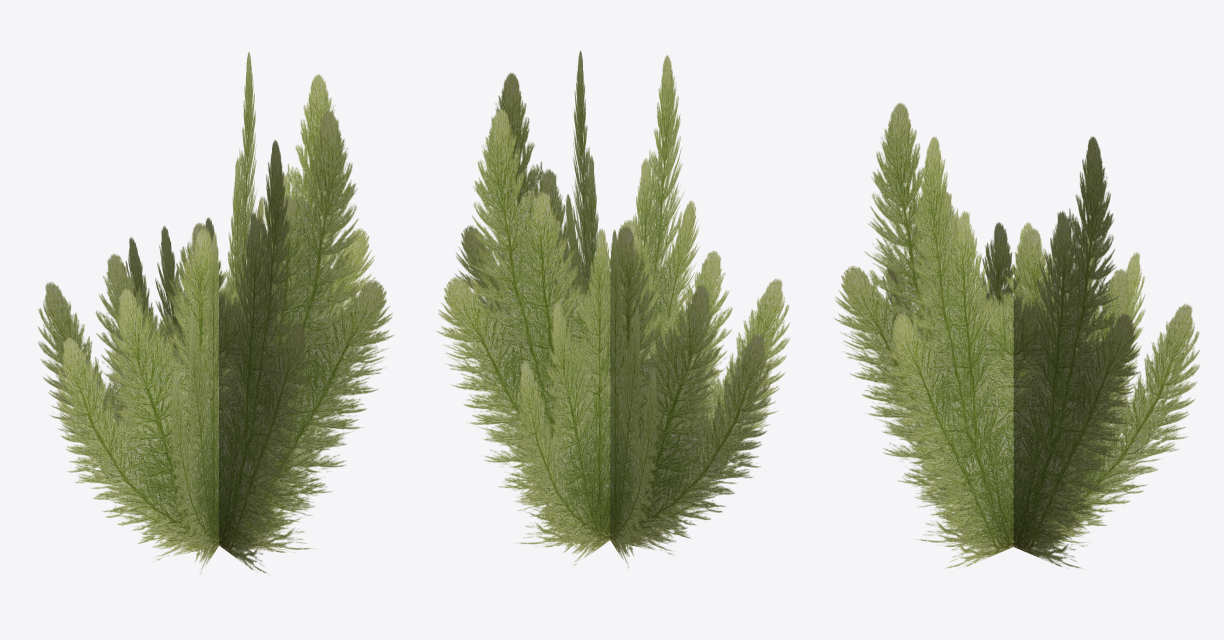
Rendered from Ceratophyllum.glb.
The picture shows the model from 3 angles, left to right: view 1: azimuth 30°, elevation 25°; view 2: azimuth 150°, elevation 25°; view 3: azimuth 270°, elevation 25°; orthographic projection.
Visible parts, largest first — view 1: Ceratophyllum (Ceratophyllum demersum.001; view 2: Ceratophyllum (Ceratophyllum demersum.001; view 3: Ceratophyllum (Ceratophyllum demersum.001.
Part boxes in pixels (x1=…): Ceratophyllum (Ceratophyllum demersum.001: x1=38, y1=52, x2=393, y2=574; Ceratophyllum (Ceratophyllum demersum.001: x1=437, y1=50, x2=789, y2=567; Ceratophyllum (Ceratophyllum demersum.001: x1=834, y1=103, x2=1199, y2=567.
Bounding box in the file's own units: 1.49 × 1.96 × 1.5.
Materials: 4 (4 with a texture image).
